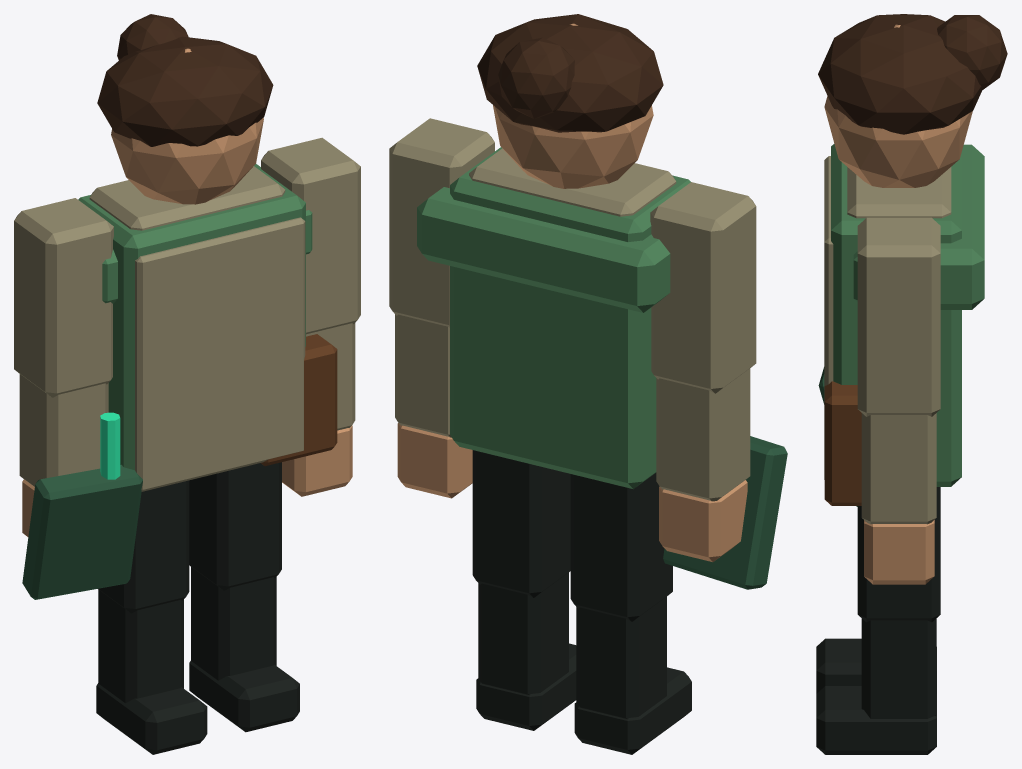
The model's file is EiraWayfarerHealer.glb.
The picture shows the model from 3 angles, left to right: view 1: azimuth 30°, elevation 25°; view 2: azimuth 150°, elevation 25°; view 3: azimuth 270°, elevation 25°; orthographic projection. The views are drawn at different scales.
Visible parts, largest first — view 1: UpperTorso_Apron, LeftUpperArm, Head_HairCap, LeftHand_HerbBook, RightUpperArm, RightUpperLeg, UpperTorso_Tunic, LeftLowerLeg, RightLowerLeg, Head, LeftLowerArm, LeftUpperLeg (+9 smaller); view 2: UpperTorso_Tunic, LeftUpperArm, UpperTorso_HealerMantle, Head_HairCap, RightUpperLeg, LeftUpperLeg, RightUpperArm, LeftLowerArm, LeftLowerLeg, RightLowerLeg, Head, LeftHand_HerbBook (+7 smaller); view 3: RightUpperArm, Head_HairCap, UpperTorso_Tunic, RightLowerArm, RightLowerLeg, Head, RightFoot, UpperTorso_HealerMantle, LowerTorso_HerbSatchel, RightHand, RightUpperLeg, UpperTorso (+3 smaller).
Boxes of the visible parts, x1,y1,x2,y2 form: UpperTorso_Apron: (135,217,305,491); LeftUpperArm: (14,198,113,397); Head_HairCap: (97,36,273,146); LeftHand_HerbBook: (22,464,142,599); RightUpperArm: (261,137,360,334); RightUpperLeg: (189,462,281,590); UpperTorso_Tunic: (78,165,305,470); LeftLowerLeg: (98,589,183,703); RightLowerLeg: (191,567,276,680); Head: (111,48,263,204); LeftLowerArm: (19,374,108,486); LeftUpperLeg: (98,480,189,613); UpperTorso_Tunic: (450,147,690,489); LeftUpperArm: (650,182,756,393); UpperTorso_HealerMantle: (417,187,670,312); Head_HairCap: (477,14,663,132); RightUpperLeg: (472,450,570,597); LeftUpperLeg: (570,473,672,621); RightUpperArm: (389,118,494,327); LeftLowerArm: (656,368,750,501); LeftLowerLeg: (576,596,666,718); RightLowerLeg: (478,572,568,694); Head: (493,23,653,188); LeftHand_HerbBook: (663,436,787,589); RightUpperArm: (857,217,940,416); Head_HairCap: (818,14,981,134); UpperTorso_Tunic: (831,144,961,486); RightLowerArm: (861,413,936,524); RightLowerLeg: (861,618,936,718); Head: (824,24,972,187); RightFoot: (816,686,936,754); UpperTorso_HealerMantle: (853,144,984,309); LowerTorso_HerbSatchel: (824,381,861,505); RightHand: (864,520,934,584); RightUpperLeg: (857,487,940,622); UpperTorso: (847,167,951,218).
Size of the model in its own units: 4.43 by 8.58 by 2.12.
Materials: 1 (1 with a texture image).
